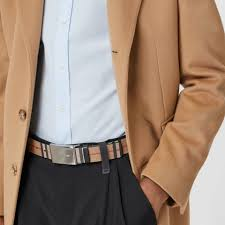F_belt: (17, 128, 156, 169)
